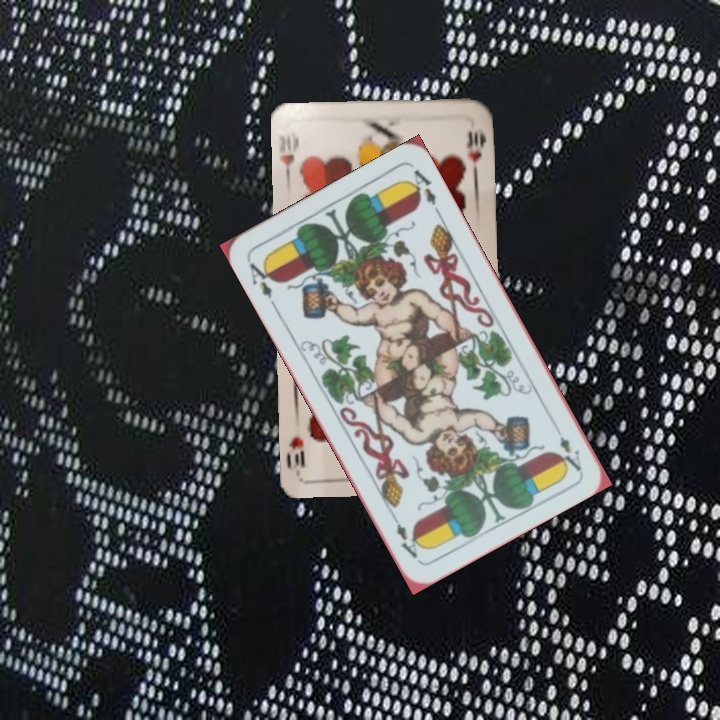EA: (244, 256, 279, 301), (555, 432, 584, 474)
H10: (275, 128, 302, 184)
